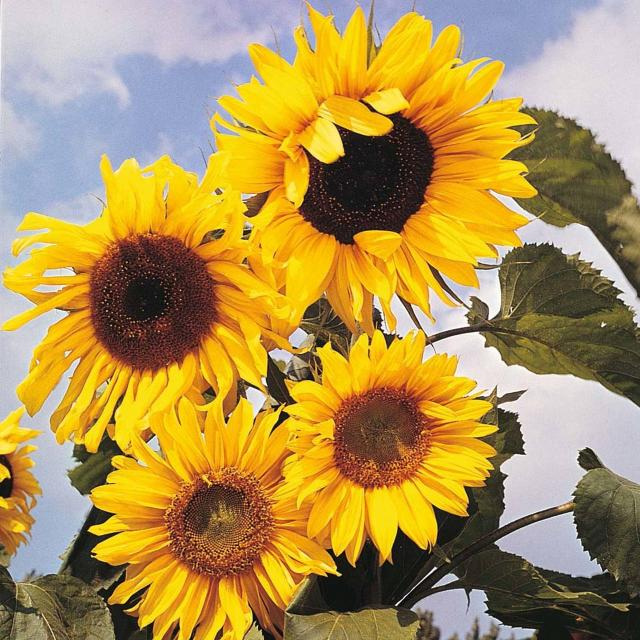sunflower: (197, 0, 543, 350), (7, 149, 290, 446), (66, 401, 339, 640), (255, 321, 506, 564)
